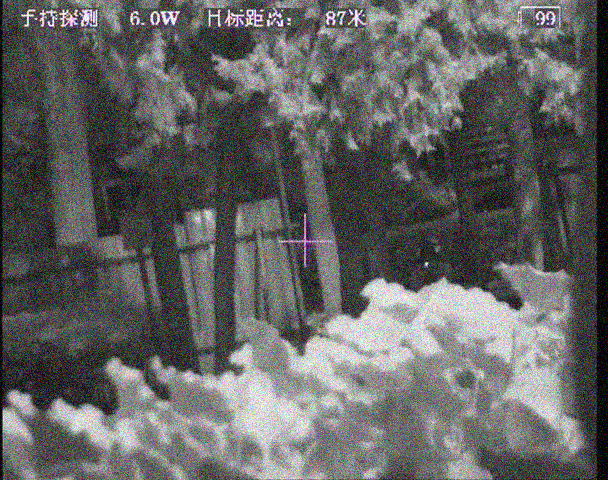my: (423, 260, 431, 269)
